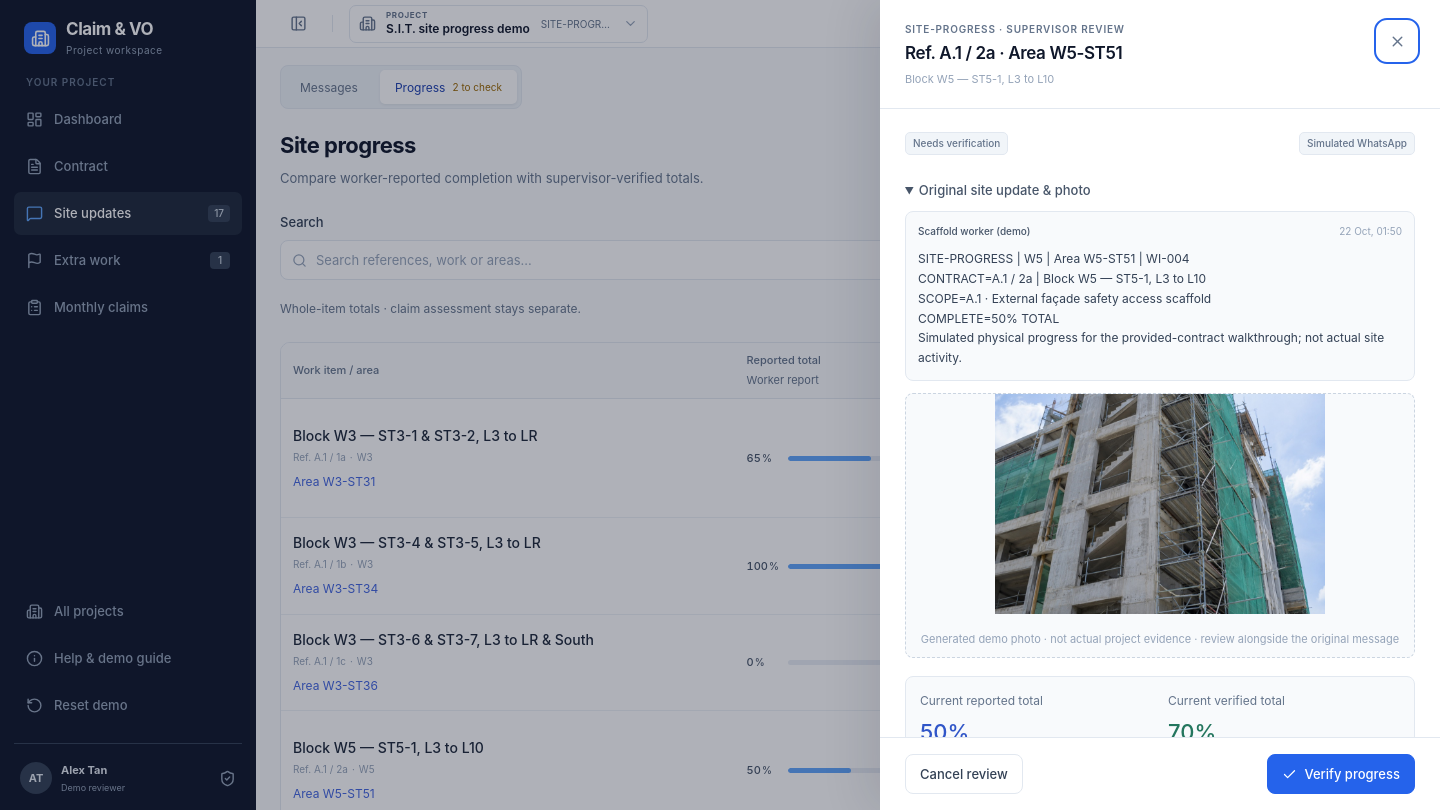
it: site progress separates worker reports from supervisor verification › requires a focused reason before lowering verified completion, then saves only the explicit supervisor decision
Click the button "Verify progress".
click(1341, 774)  # box x1=1267 y1=754 x2=1415 y2=794
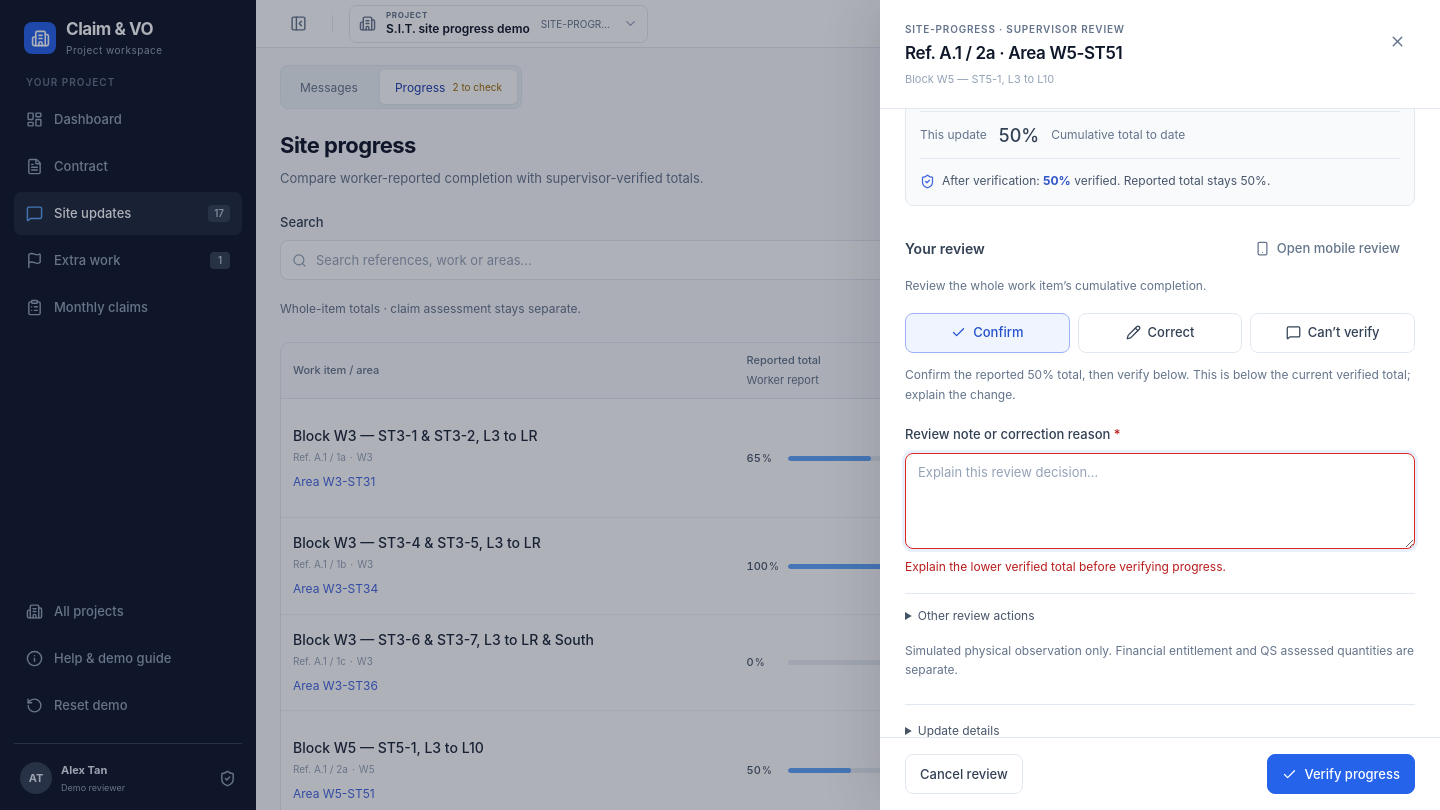
Type "Supervisor measured a lower total after the access scope was checked." into the text box labelled "Review note or correction reason".
click(1160, 501); type("Supervisor measured a lower total after the access scope was checked.")  # box x1=905 y1=453 x2=1415 y2=549
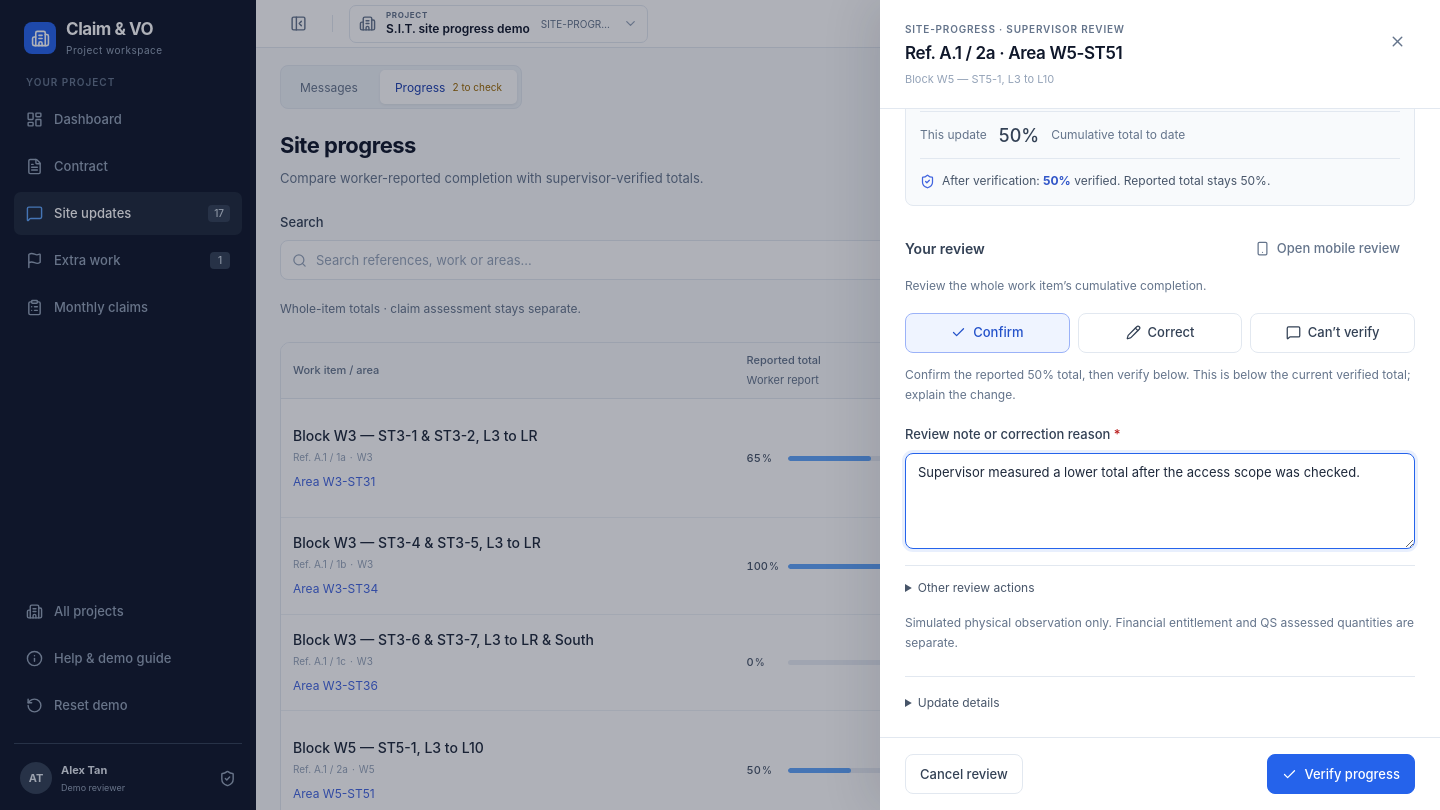
Click the button "Verify progress".
click(1341, 774)  # box x1=1267 y1=754 x2=1415 y2=794
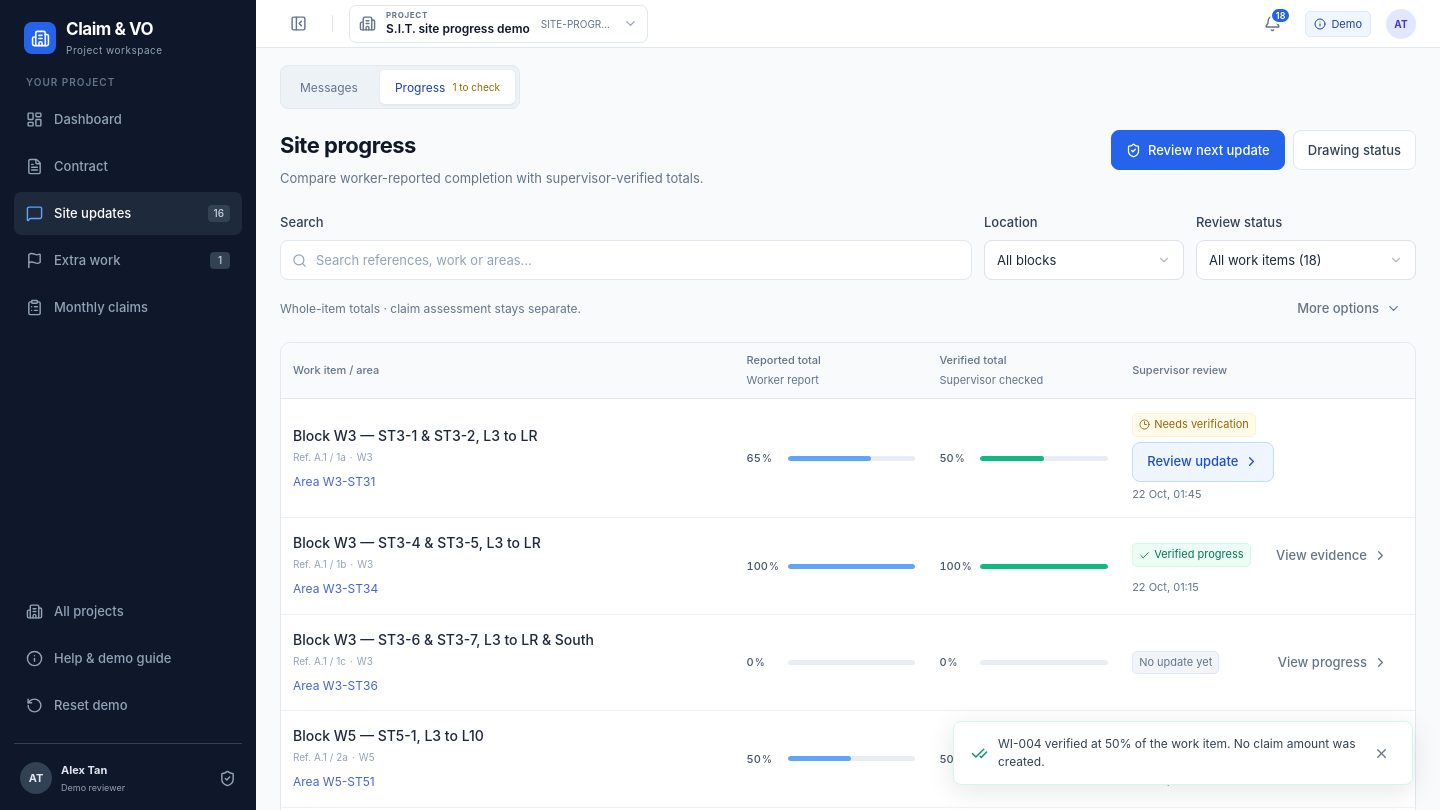
Now the dialog is gone
